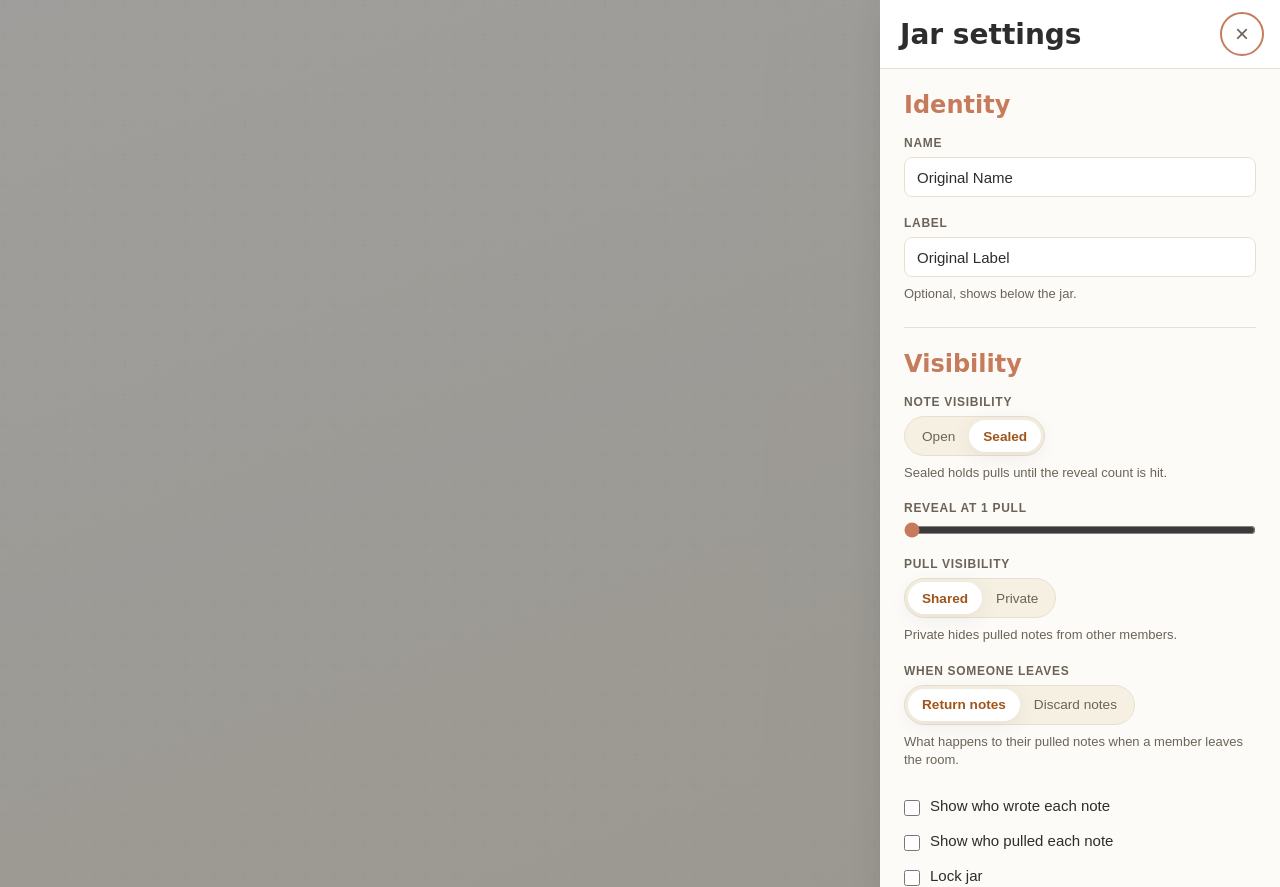
Test: JarSettingsDrawer — sealed-reveal slider › updates the visible slider + label during a drag without saving each step
Set the slider to "2" at (949, 530), box [904, 522, 1256, 538]
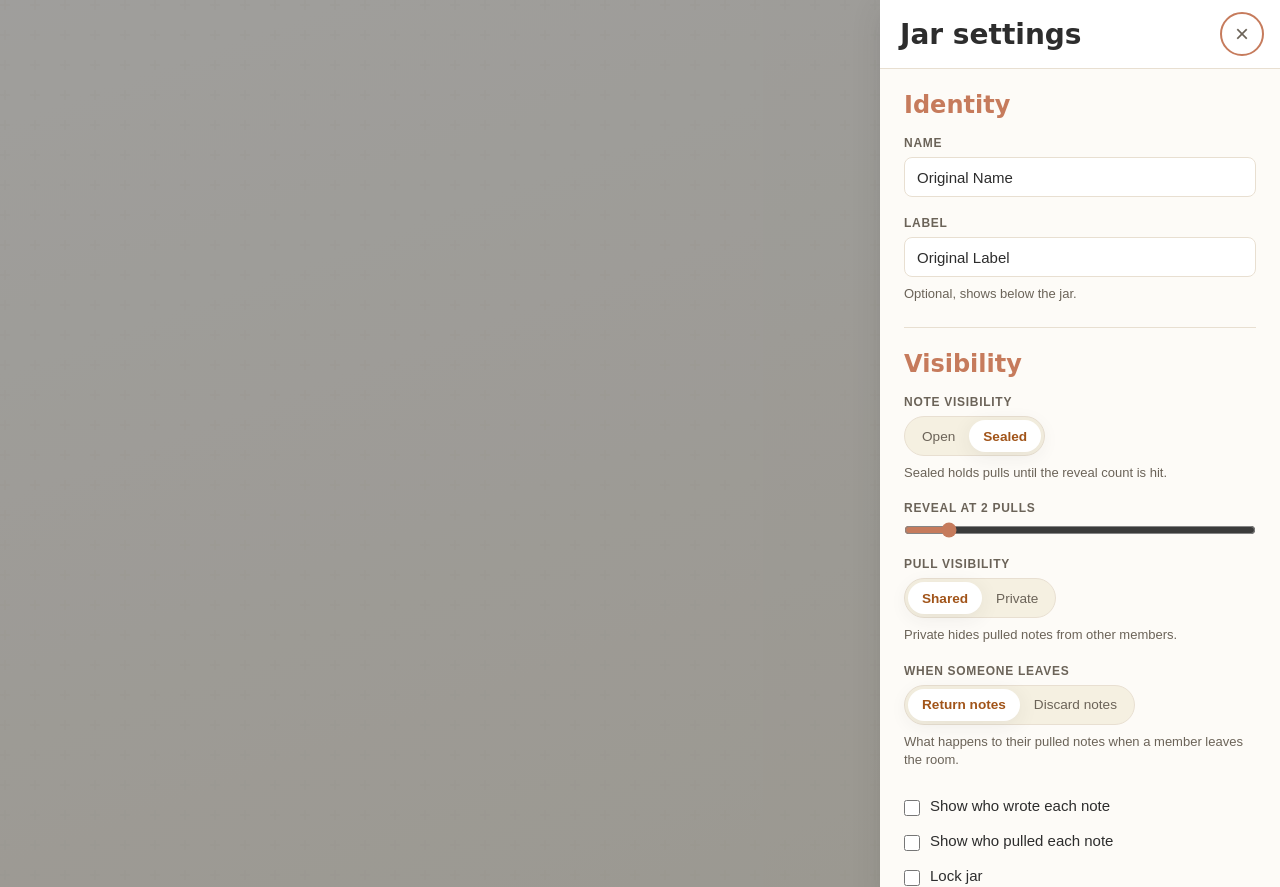
Set the slider to "3" at (987, 530), box [904, 522, 1256, 538]
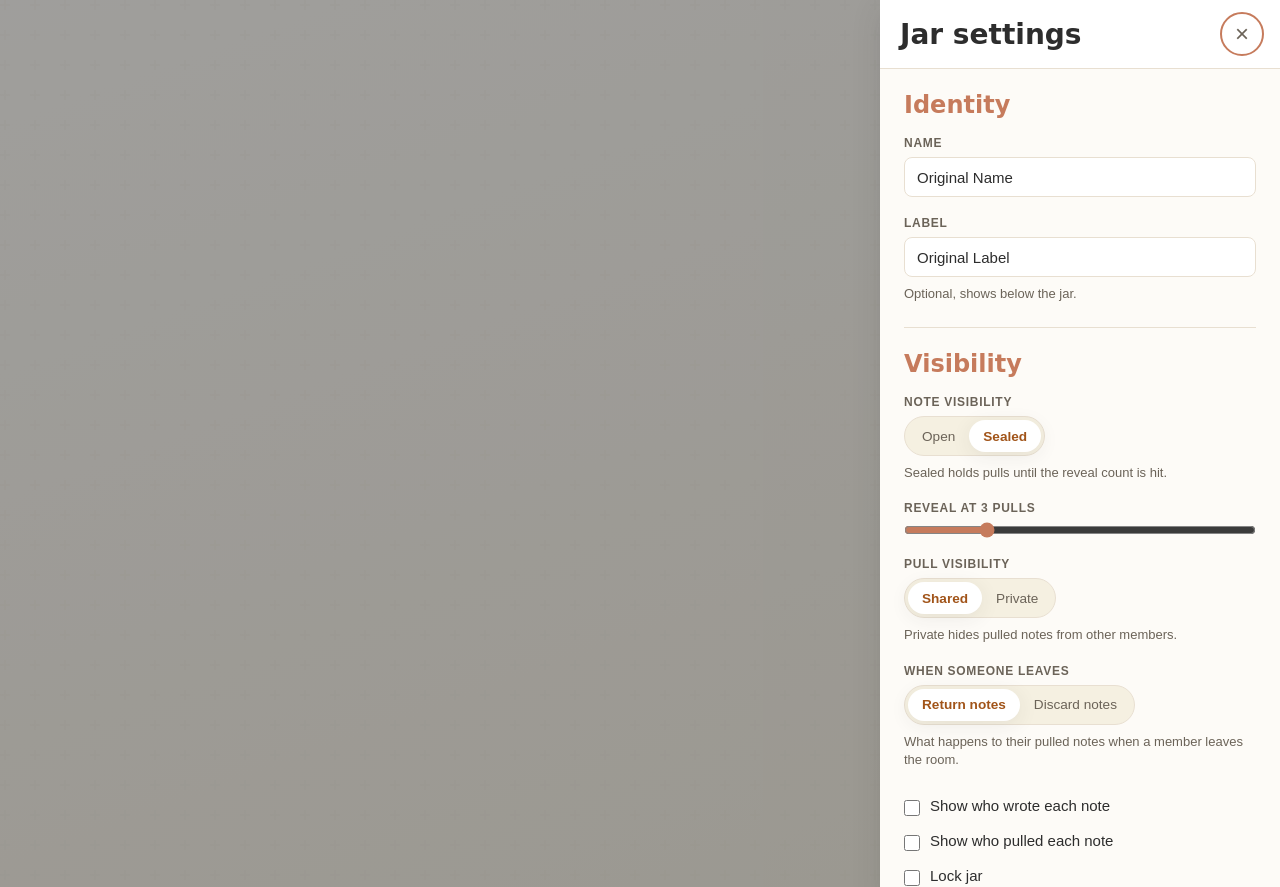
Set the slider to "4" at (1024, 530), box [904, 522, 1256, 538]
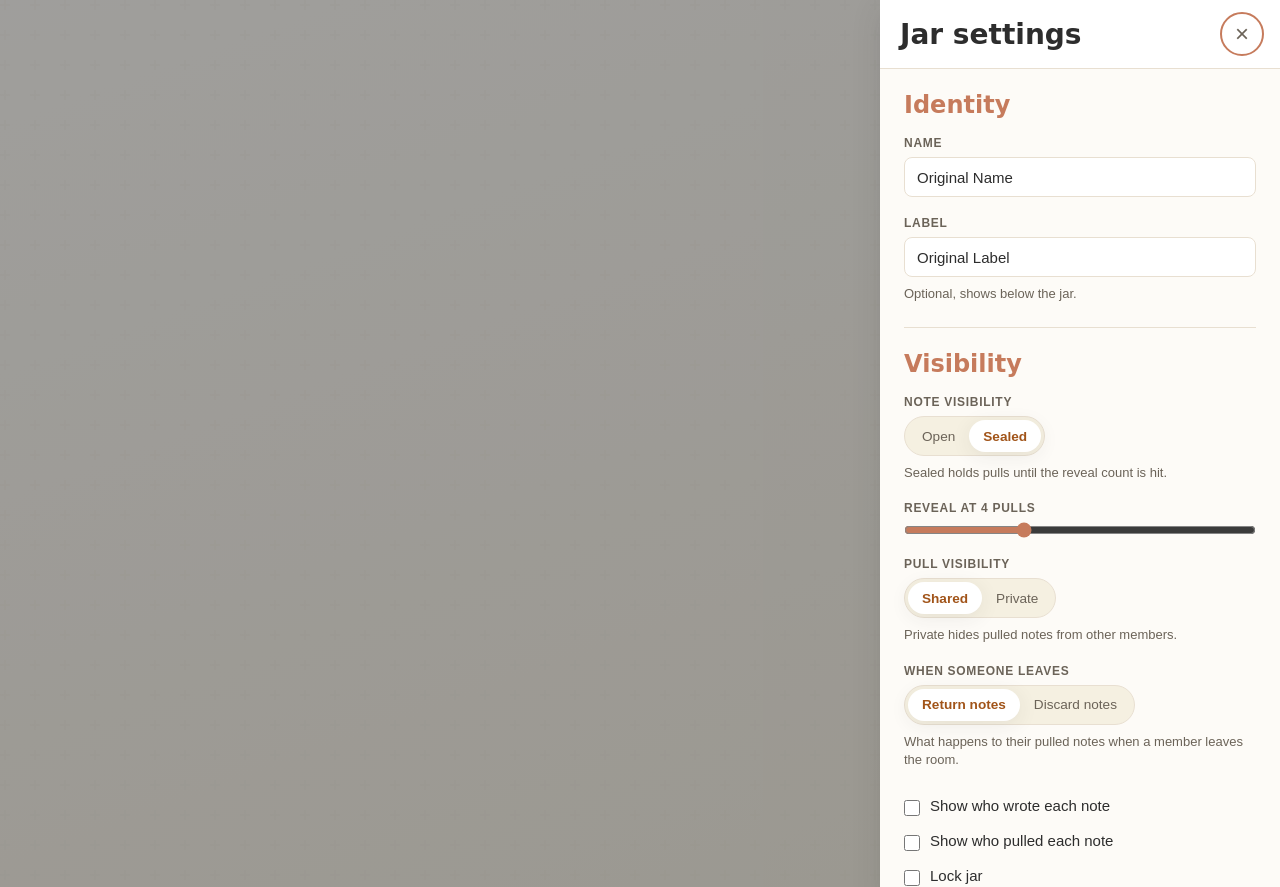
Set the slider to "5" at (1061, 530), box [904, 522, 1256, 538]
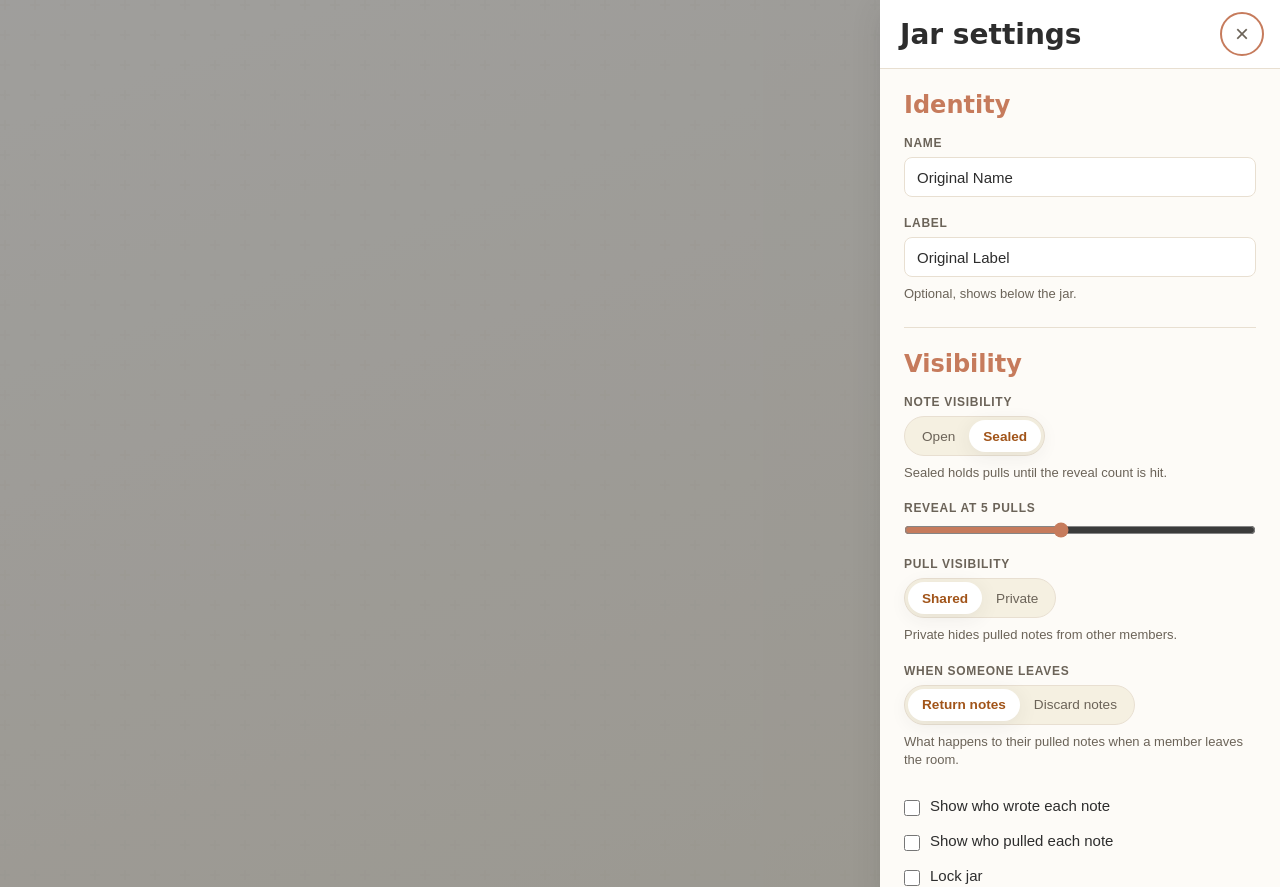
Expected: the text "Reveal at 5 pulls" is shown, [904, 501, 1035, 515]
